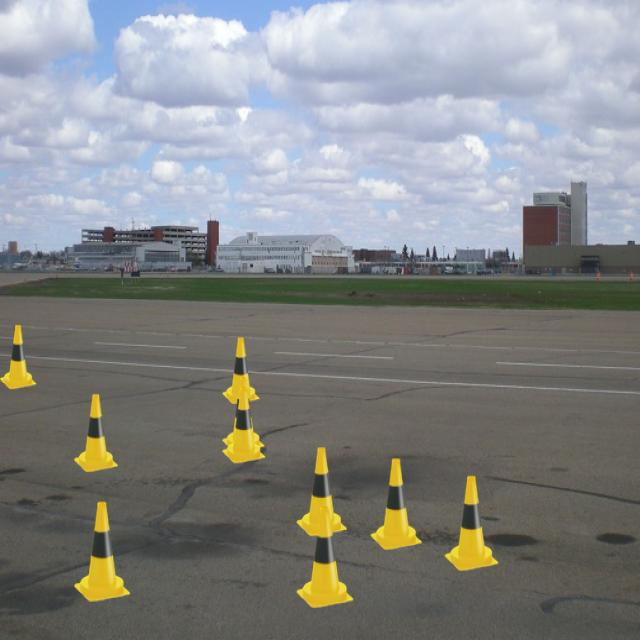yellow_cone: (296, 506, 354, 608), (74, 502, 130, 602), (445, 476, 498, 570), (371, 458, 422, 550), (296, 447, 346, 536), (74, 394, 118, 472), (222, 387, 266, 463), (222, 377, 264, 452), (222, 337, 260, 404), (0, 325, 36, 389)
